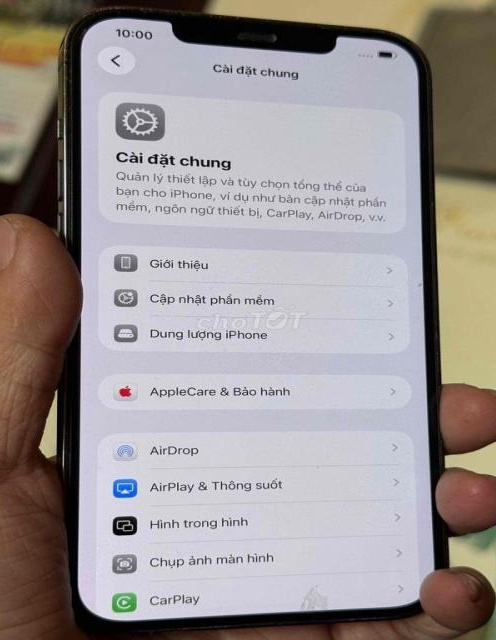screen_defect: (288, 579, 344, 616)
